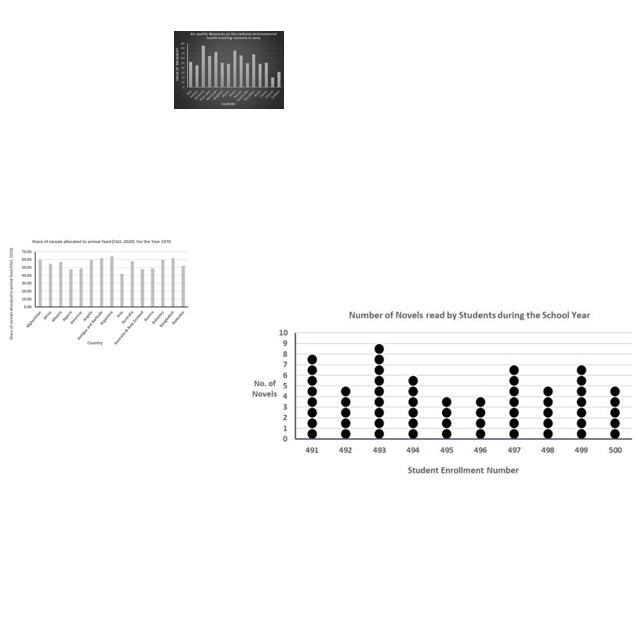Graph: (243, 303, 638, 479), (5, 236, 198, 350), (174, 31, 284, 109)
